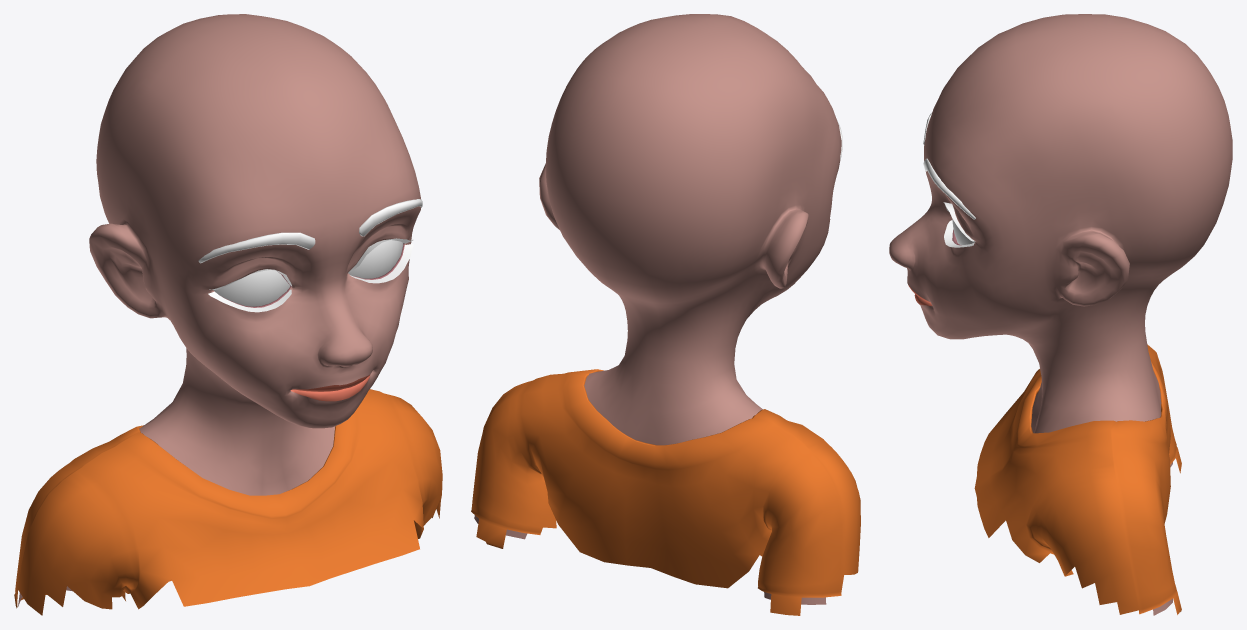
Rendered from ShapeKey Testing.glb.
3 views of the same model, side by side, from view 1: azimuth 30°, elevation 25°; view 2: azimuth 150°, elevation 25°; view 3: azimuth 270°, elevation 25° (orthographic). The views are drawn at different scales.
Visible parts, largest first — view 1: PIXXO_CH_001, Eye.R, Eye.L; view 2: PIXXO_CH_001; view 3: PIXXO_CH_001.
Boxes of the visible parts, x1,y1,x2,y2 form: PIXXO_CH_001: [14, 14, 442, 615]; Eye.R: [214, 270, 290, 306]; Eye.L: [348, 240, 403, 278]; PIXXO_CH_001: [471, 14, 860, 615]; PIXXO_CH_001: [889, 14, 1232, 615].
Size of the model in its own units: 0.9454 by 1.25 by 0.761.
